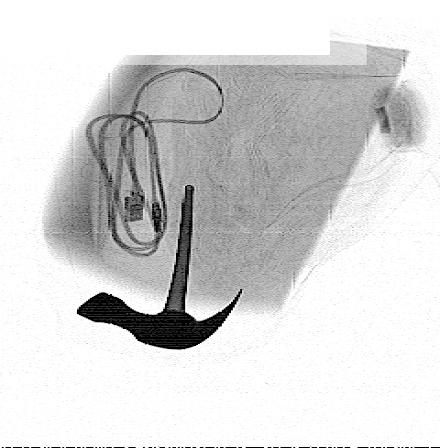Hammer: (77, 184, 244, 350)
